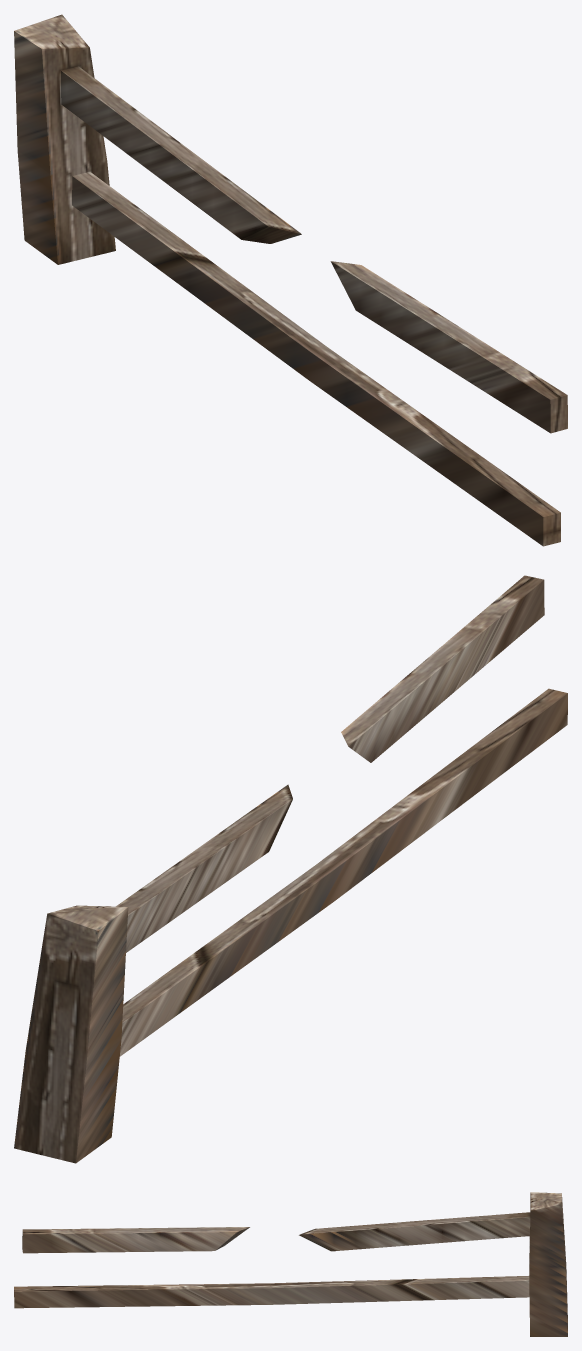
File: start_fence_09.glb
3 views of the same model, one above another, from view 1: azimuth 30°, elevation 25°; view 2: azimuth 150°, elevation 25°; view 3: azimuth 270°, elevation 25° (orthographic). The views are drawn at different scales.
Visible parts, largest first — view 1: start_fence_09_game; view 2: start_fence_09_game; view 3: start_fence_09_game.
Boxes of the visible parts, x1,y1,x2,y2 form: start_fence_09_game: (14,14,567,546); start_fence_09_game: (14,575,567,1163); start_fence_09_game: (14,1192,567,1336).
Bounding box in the file's own units: 0.4127 × 1.13 × 4.51.
Materials: 1 (1 with a texture image).
